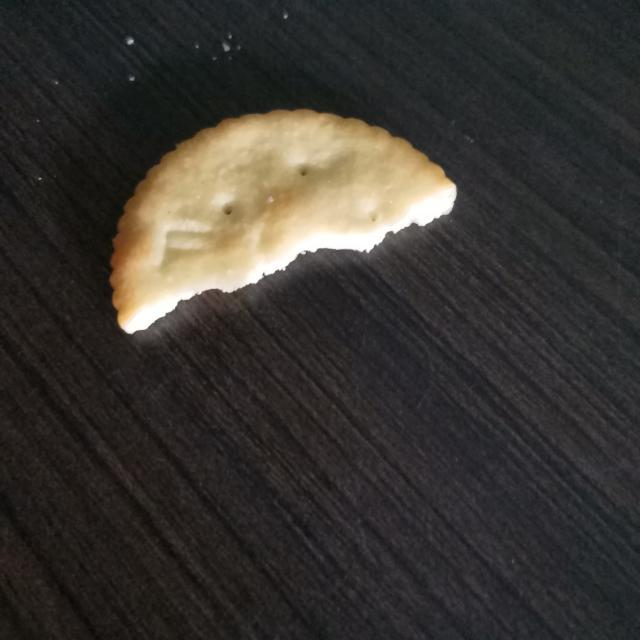Broken: (109, 106, 458, 334)
